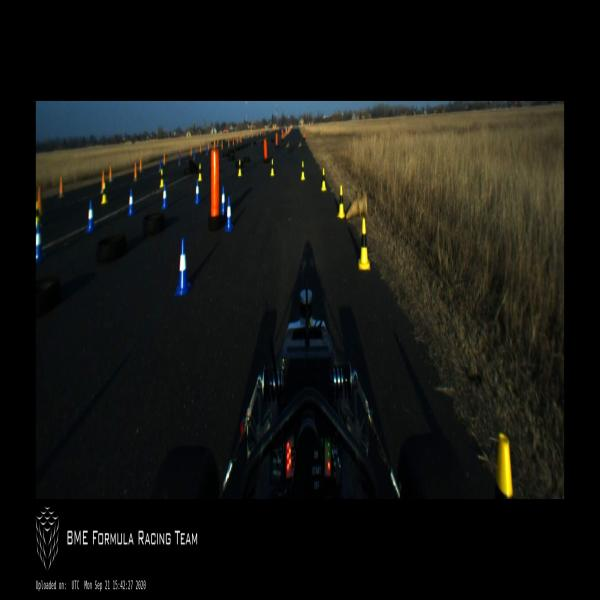blue_cone: (174, 237, 192, 297), (85, 200, 95, 234), (36, 221, 44, 262), (225, 196, 233, 232), (128, 189, 136, 216), (220, 185, 226, 216), (162, 183, 169, 209), (194, 178, 199, 206)
unknown_cone: (346, 192, 361, 220), (360, 193, 369, 214), (36, 186, 42, 212), (59, 176, 64, 197), (133, 162, 138, 182), (101, 170, 105, 192), (162, 152, 166, 166), (109, 165, 112, 182), (139, 159, 142, 172), (190, 147, 192, 157), (200, 144, 202, 154), (206, 147, 208, 155), (160, 158, 161, 168), (179, 154, 180, 164), (194, 149, 195, 159)
yellow_cone: (497, 432, 514, 498), (358, 218, 371, 271), (337, 185, 344, 219), (102, 182, 108, 205), (320, 168, 326, 190), (36, 202, 41, 228), (160, 169, 164, 189), (301, 161, 305, 180), (198, 163, 202, 182), (238, 159, 242, 177), (270, 159, 274, 176)
